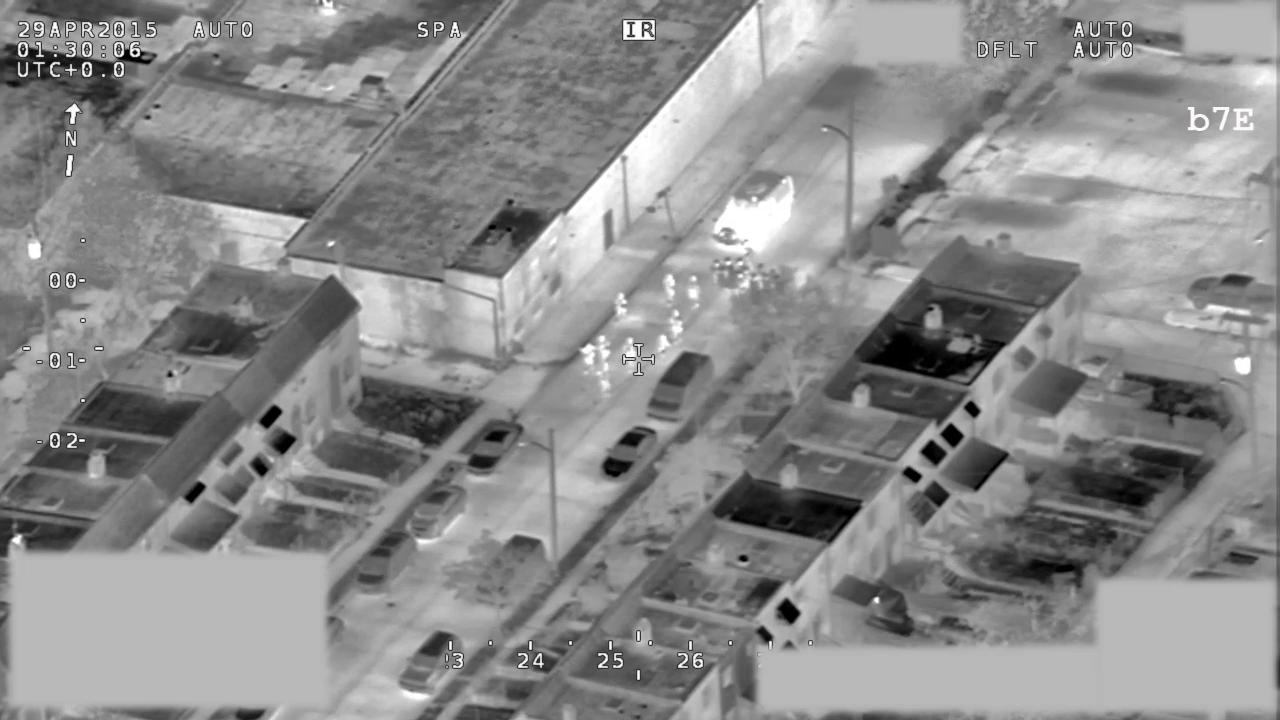vehicle: (710, 170, 797, 253), (643, 351, 719, 425), (475, 532, 547, 605), (355, 529, 420, 598), (1186, 270, 1280, 317), (399, 628, 463, 694), (461, 421, 527, 480), (410, 480, 471, 543), (600, 425, 660, 484)
